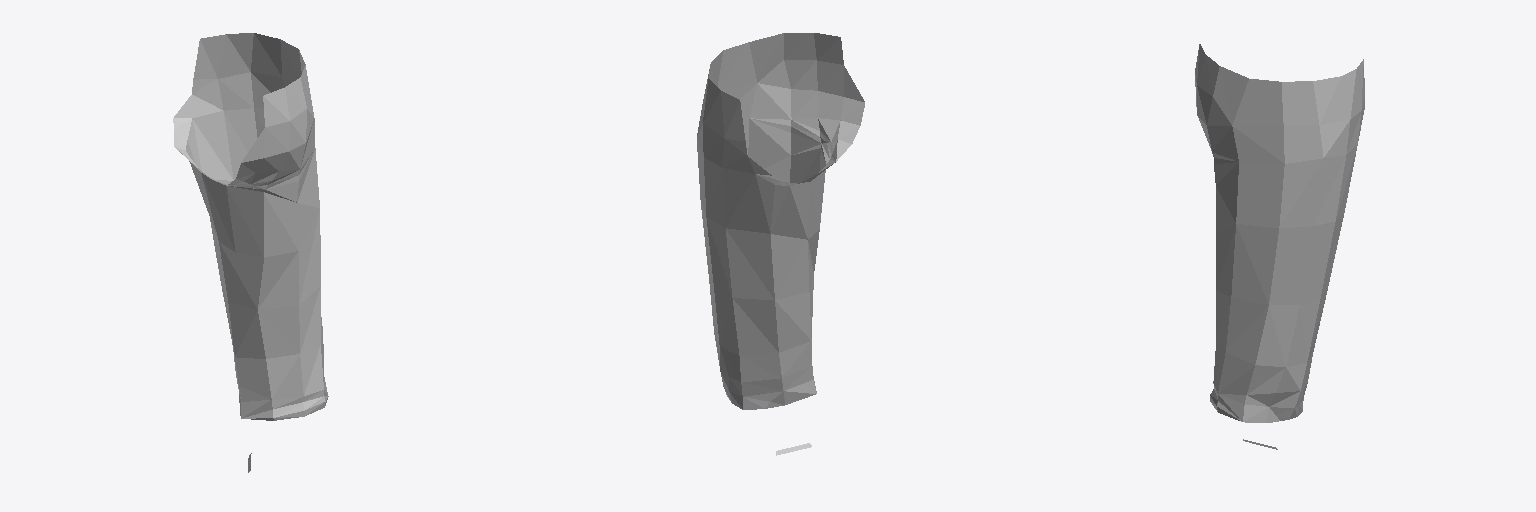
Rendered from pDerJames.obj.
3 views of the same model, side by side, from view 1: azimuth 30°, elevation 25°; view 2: azimuth 150°, elevation 25°; view 3: azimuth 270°, elevation 25° (orthographic).
Visible parts, largest first — view 1: R_Hip, R_Knee, Hips, Center, Pierna_Der_James_Mat; view 2: R_Hip, Hips, R_Knee, Center, Pierna_Der_James_Mat; view 3: R_Hip, R_Knee, Center.
Boxes of the visible parts, box(x1,y1,x2,y2) form: R_Hip: box(173, 33, 323, 399); R_Knee: box(236, 345, 328, 472); Hips: box(174, 122, 305, 185); Center: box(265, 77, 306, 150); Pierna_Der_James_Mat: box(263, 88, 289, 126); R_Hip: box(697, 33, 830, 382); Hips: box(783, 61, 864, 185); R_Knee: box(721, 366, 816, 455); Center: box(784, 33, 843, 89); Pierna_Der_James_Mat: box(814, 33, 843, 64); R_Hip: box(1207, 59, 1364, 394); R_Knee: box(1210, 355, 1307, 449); Center: box(1195, 54, 1219, 124).
Bounding box in the file's own units: 15.13 × 50.85 × 19.79.